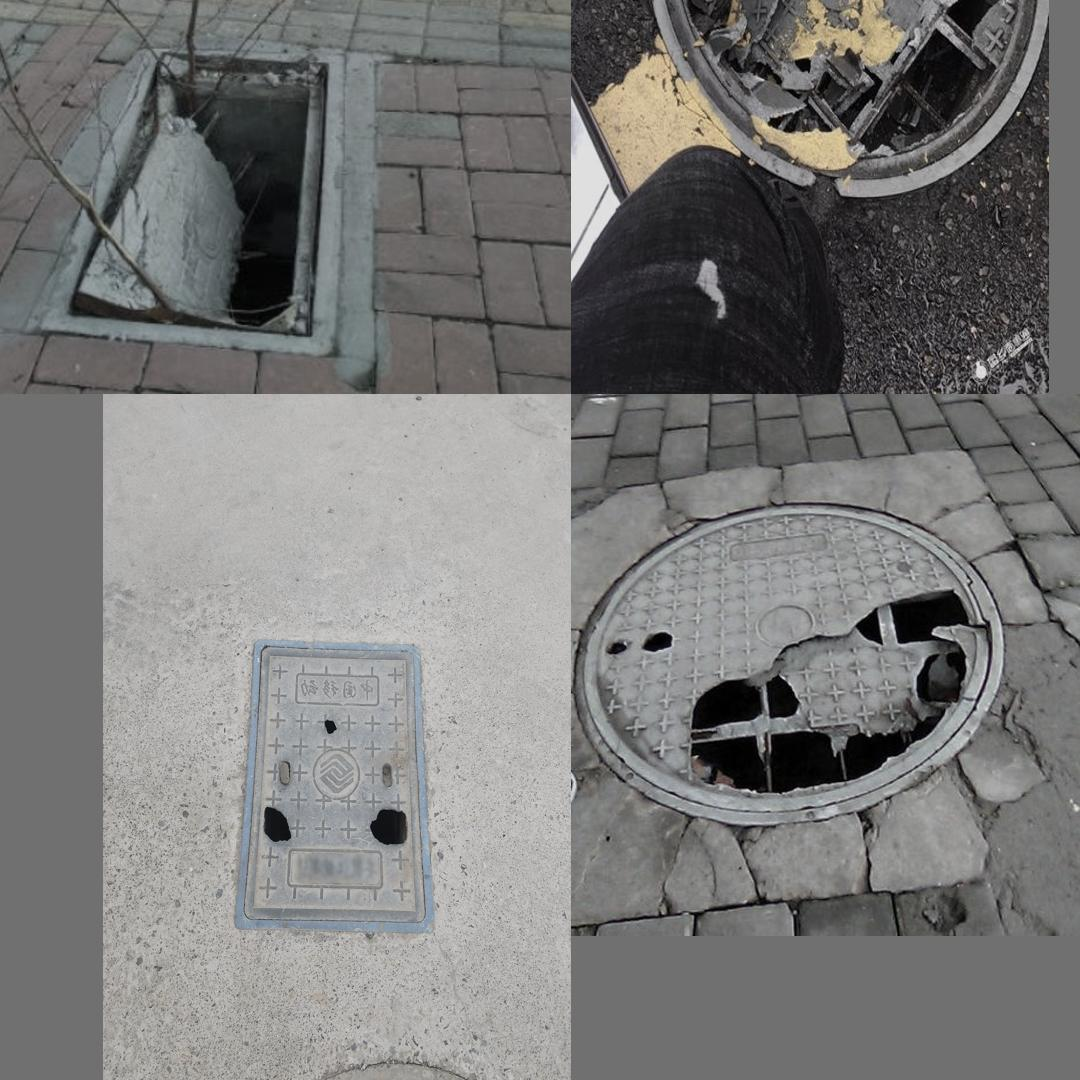broke: (582, 481, 1026, 878), (34, 47, 347, 357), (624, 0, 1029, 192), (231, 638, 432, 932)
